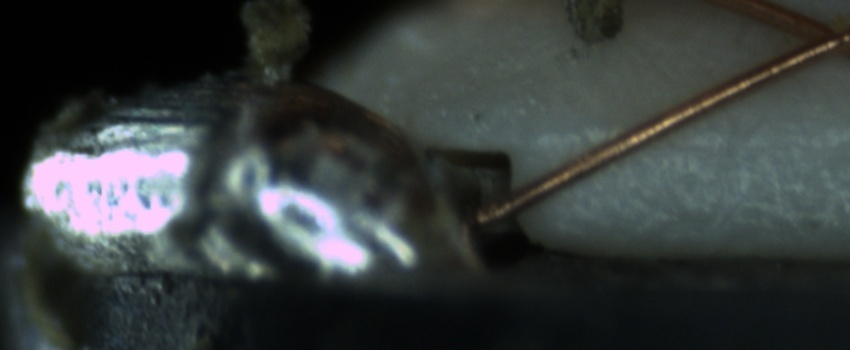CL: (774, 3, 849, 69)
DL: (540, 108, 845, 171)
